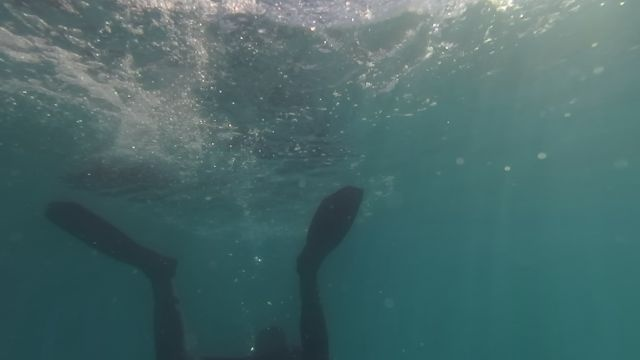Diver: (35, 174, 387, 358)
